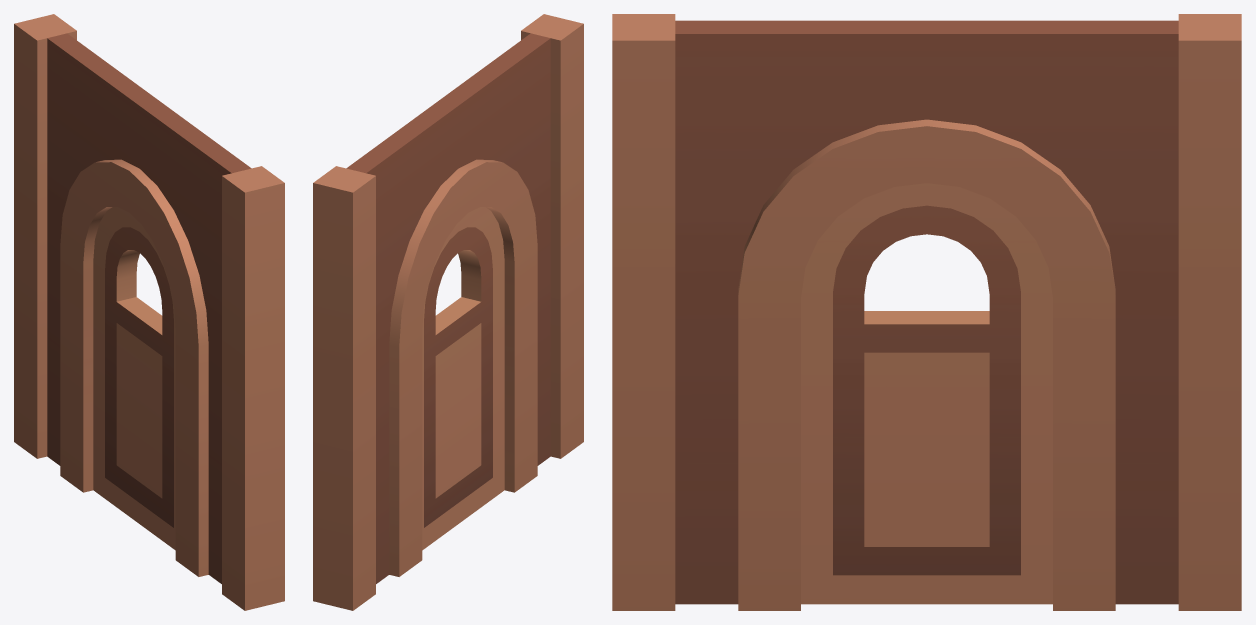
File: ot-wall-wood-door.glb
The picture shows the model from 3 angles, left to right: view 1: azimuth 30°, elevation 25°; view 2: azimuth 150°, elevation 25°; view 3: azimuth 270°, elevation 25°; orthographic projection. The views are drawn at different scales.
Parts seen in each view (by area): view 1: wall-wood-door; view 2: wall-wood-door; view 3: wall-wood-door.
Part boxes in pixels (bbox=[...]): wall-wood-door: bbox=[14, 14, 284, 610]; wall-wood-door: bbox=[313, 14, 583, 610]; wall-wood-door: bbox=[612, 14, 1241, 610].
Bounding box in the file's own units: 0.1 × 1 × 1.
Materials: 1 (1 with a texture image).
